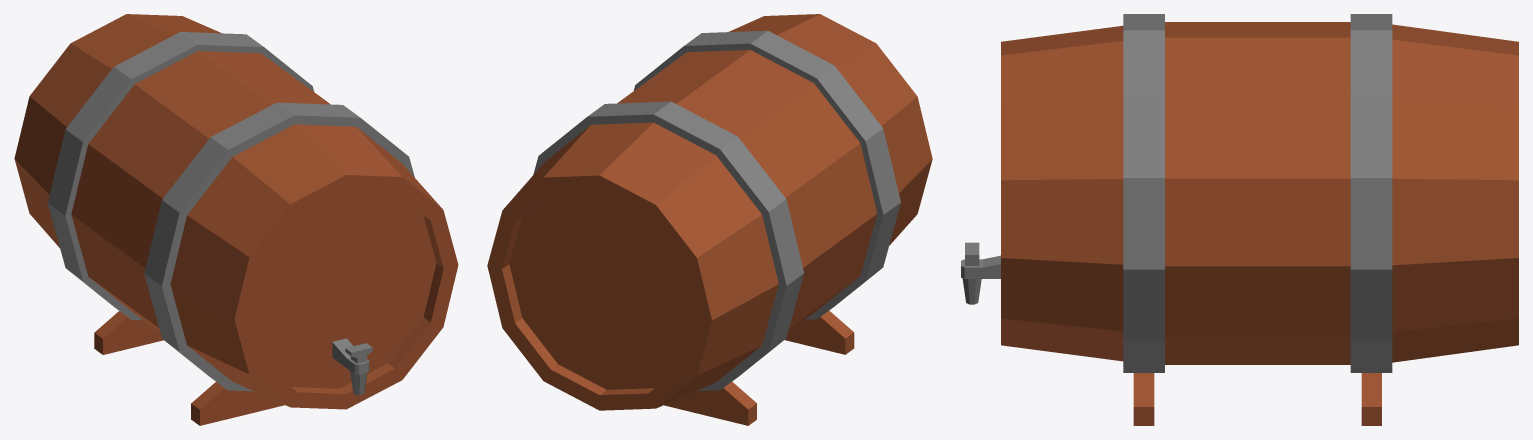
Rendered from Prop_Fantasy_Cask_Barrel_Spigot_Tap_Block_01.FBX.
3 renders of one model, left to right at view 1: azimuth 30°, elevation 25°; view 2: azimuth 150°, elevation 25°; view 3: azimuth 270°, elevation 25°, orthographic. The views are drawn at different scales.
Parts seen in each view (by area): view 1: Prop_Fantasy_Cask_Barrel_Spigot_Tap_Block_01; view 2: Prop_Fantasy_Cask_Barrel_Spigot_Tap_Block_01; view 3: Prop_Fantasy_Cask_Barrel_Spigot_Tap_Block_01.
Boxes of the visible parts, <box> form: Prop_Fantasy_Cask_Barrel_Spigot_Tap_Block_01: <box>14,14,458,425</box>; Prop_Fantasy_Cask_Barrel_Spigot_Tap_Block_01: <box>487,14,932,425</box>; Prop_Fantasy_Cask_Barrel_Spigot_Tap_Block_01: <box>961,14,1518,425</box>.
Size of the model in its own units: 1218 by 1280 by 1884.
